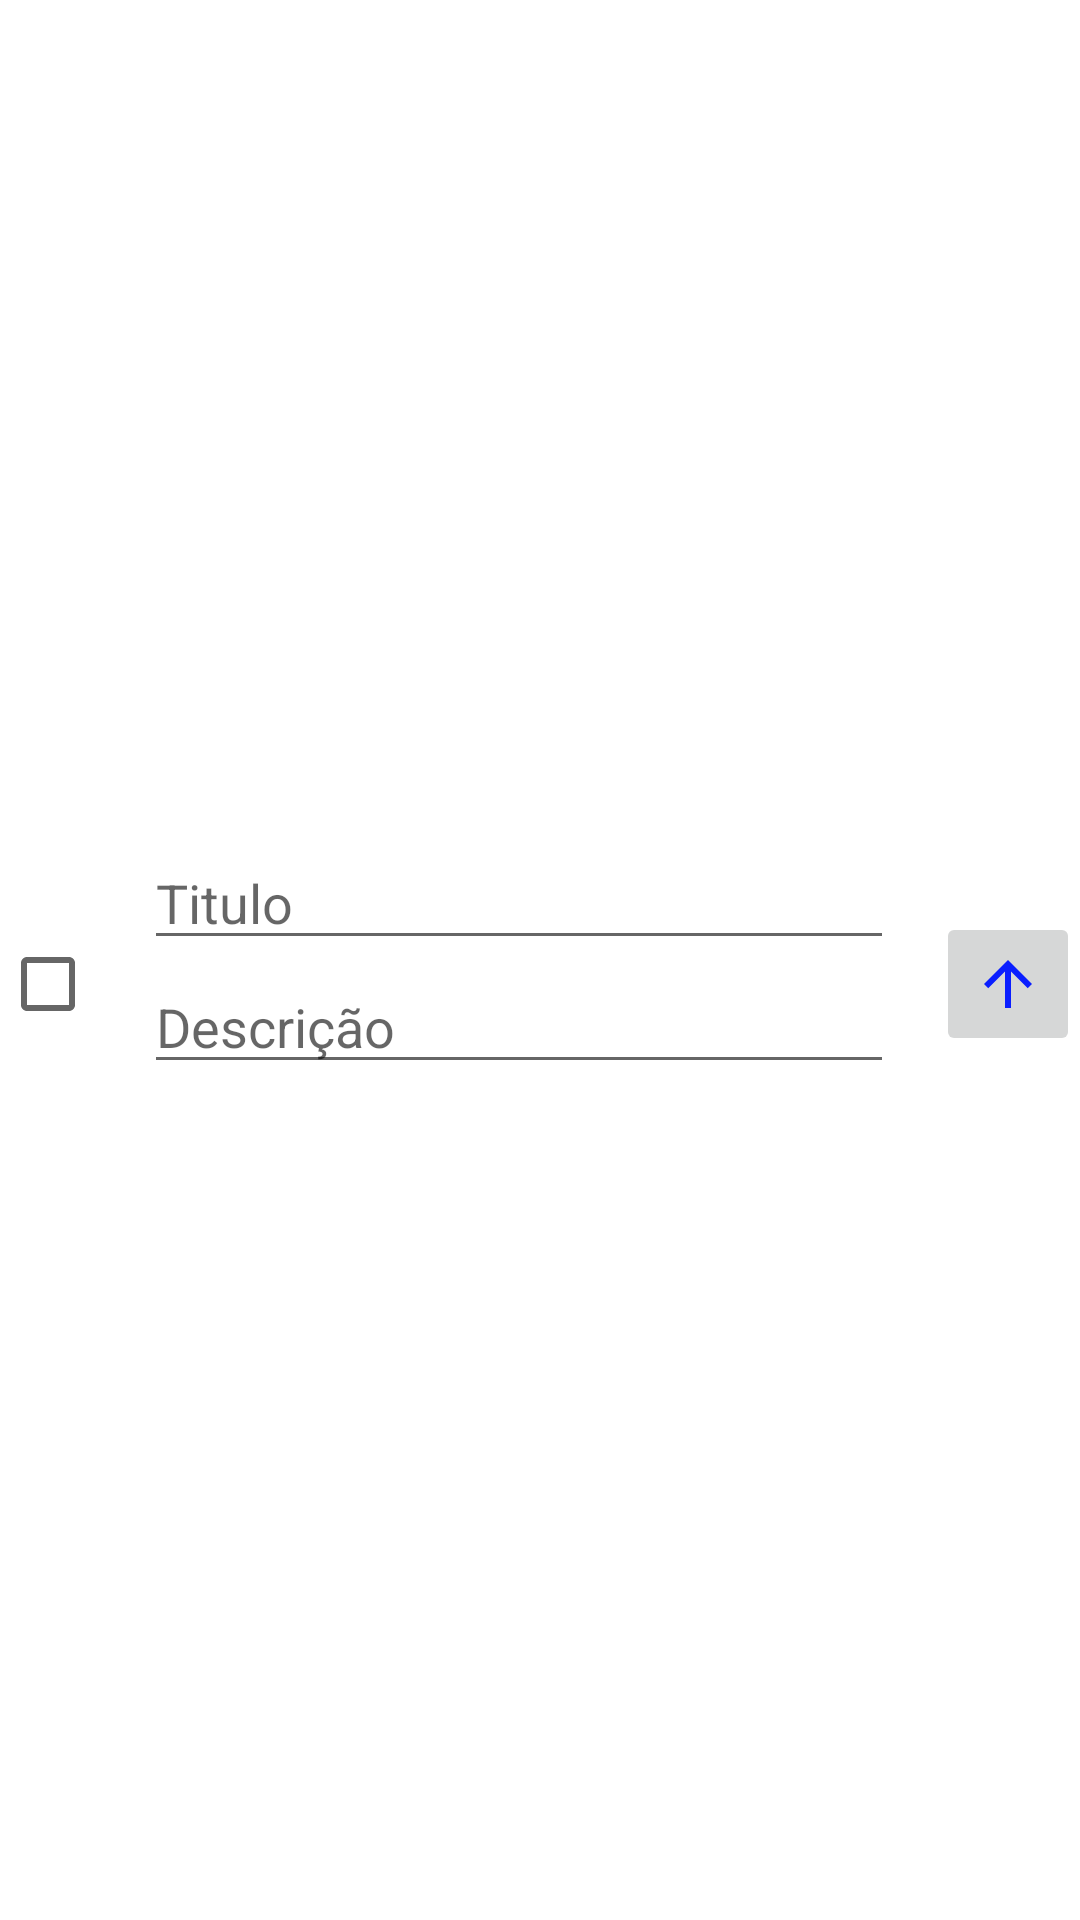

Named icons in this screenshot (1080x1920) and their bounding boxes, (x1, y1, x2, y2):
arrow upward: (948, 930, 1068, 1038)
